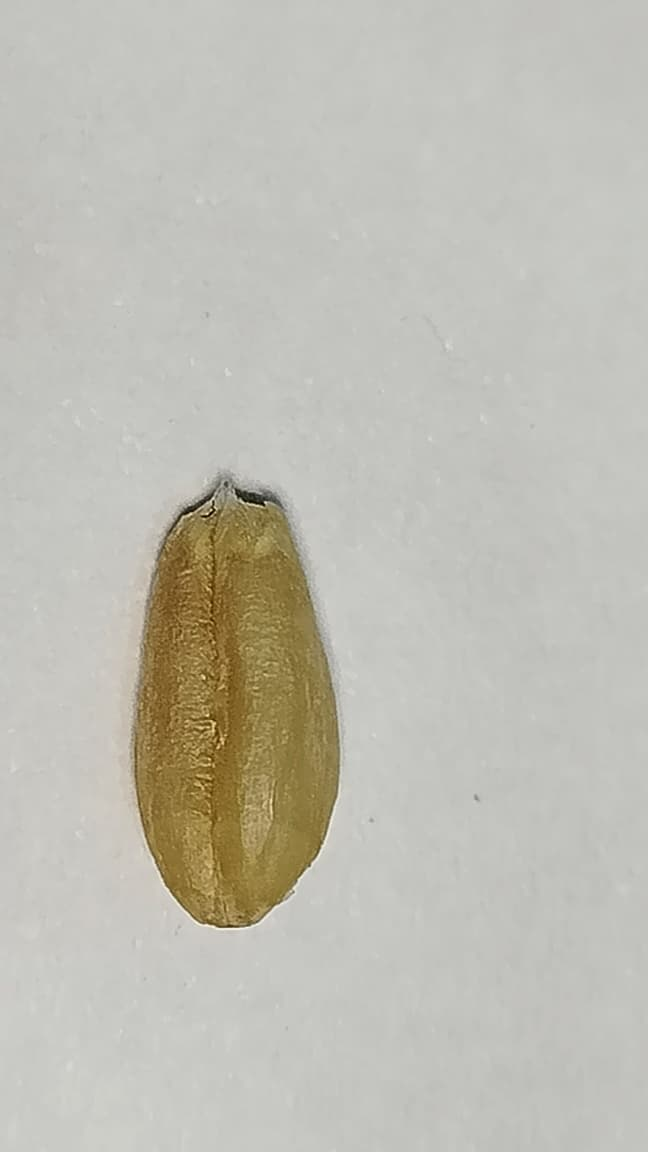healthy: (139, 482, 339, 925)
